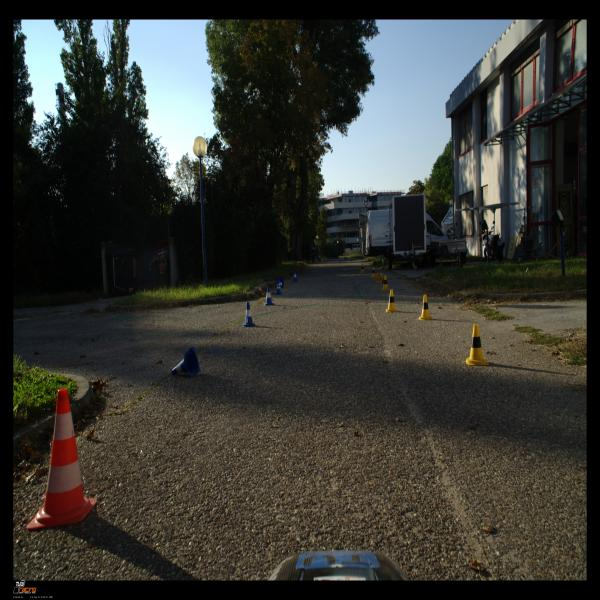blue_cone: (171, 346, 201, 377), (242, 302, 255, 327), (264, 286, 274, 306), (274, 279, 282, 295), (292, 271, 298, 282), (278, 278, 284, 288)
large_orange_cone: (25, 388, 97, 530)
yellow_cone: (464, 324, 489, 366), (417, 294, 434, 320), (385, 289, 398, 313), (380, 275, 390, 291), (376, 273, 384, 283), (371, 266, 377, 279), (360, 264, 365, 274)
